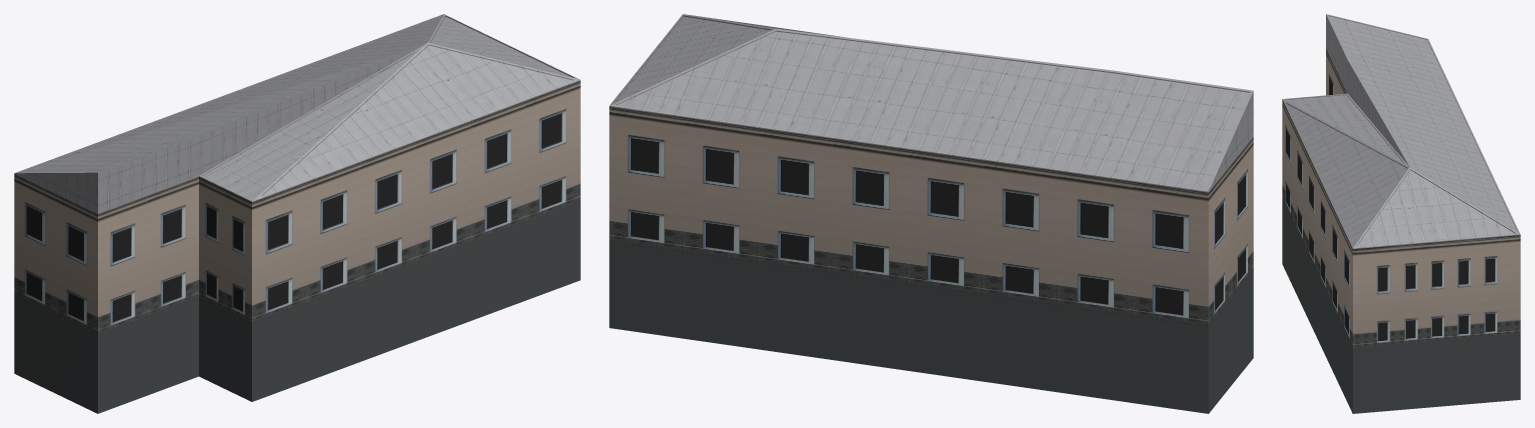
The model's file is back3.FBX.
3 renders of one model, left to right at view 1: azimuth 30°, elevation 25°; view 2: azimuth 150°, elevation 25°; view 3: azimuth 270°, elevation 25°, orthographic. The views are drawn at different scales.
Visible parts, largest first — view 1: 01020-50@5036; view 2: 01020-50@5036; view 3: 01020-50@5036.
Part boxes in pixels (bbox=[...]): 01020-50@5036: bbox=[14, 14, 580, 413]; 01020-50@5036: bbox=[609, 14, 1253, 413]; 01020-50@5036: bbox=[1282, 14, 1520, 413].
Bounding box in the file's own units: 27.81 × 12.33 × 13.35.
2 materials, 2 textured.
